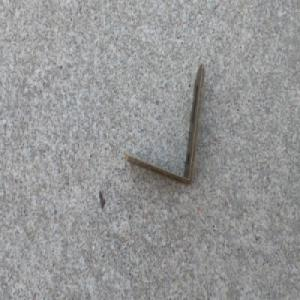MetalPart: (125, 61, 206, 187)
